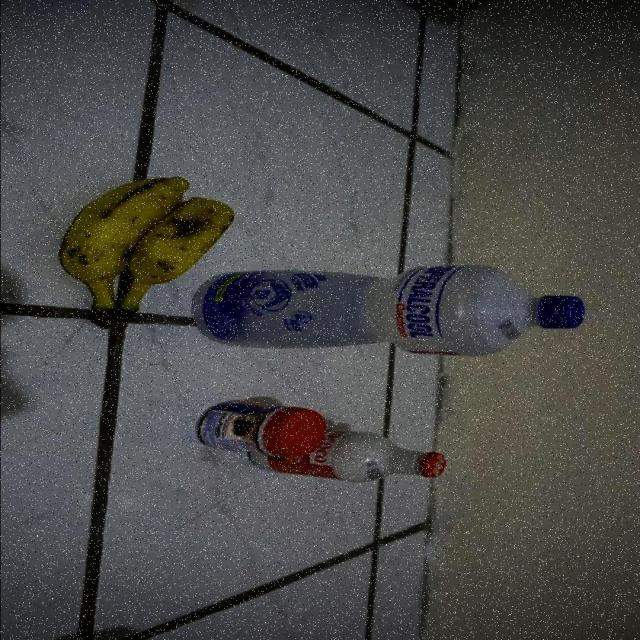AlcoholBottle: (236, 263, 587, 349)
Banana: (28, 175, 231, 328)
CoconutMilk: (326, 432, 448, 482)
Yeast: (190, 404, 326, 452)
